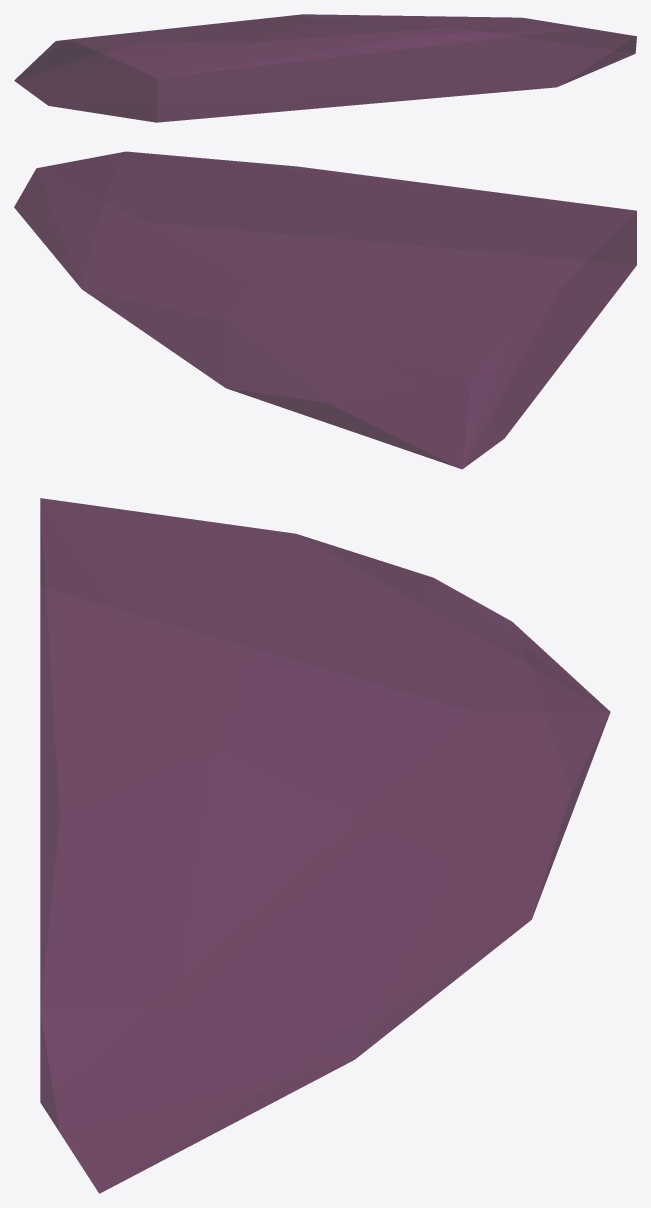
The picture shows the model from 3 angles, top to bottom: view 1: azimuth 30°, elevation 25°; view 2: azimuth 150°, elevation 25°; view 3: azimuth 270°, elevation 25°; orthographic projection. The views are drawn at different scales.
Visible parts, largest first — view 1: Shape_IndexedFaceSet.009_Shape_IndexedFaceSet.10719; view 2: Shape_IndexedFaceSet.009_Shape_IndexedFaceSet.10719; view 3: Shape_IndexedFaceSet.009_Shape_IndexedFaceSet.10719.
Part boxes in pixels (bbox=[...]): Shape_IndexedFaceSet.009_Shape_IndexedFaceSet.10719: bbox=[14, 14, 636, 122]; Shape_IndexedFaceSet.009_Shape_IndexedFaceSet.10719: bbox=[14, 151, 636, 469]; Shape_IndexedFaceSet.009_Shape_IndexedFaceSet.10719: bbox=[40, 498, 610, 1193].
Size of the model in its own units: 0.1915 by 0.0396 by 0.0958.
